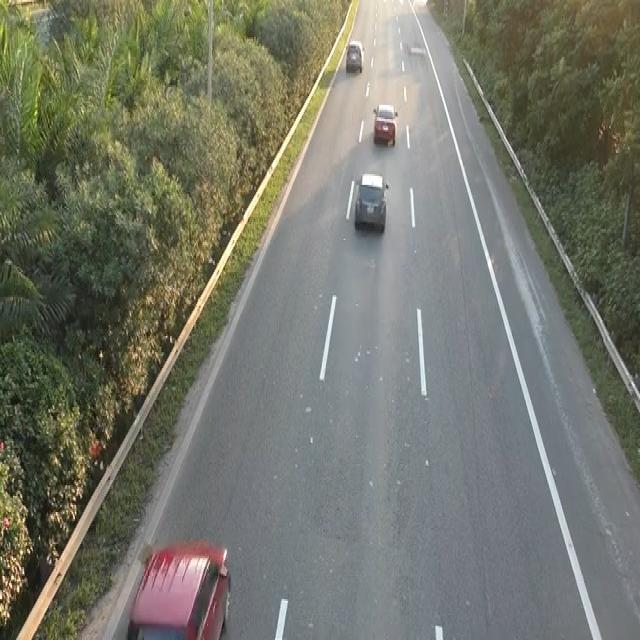bus: (125, 535, 232, 637), (372, 100, 398, 146), (344, 37, 364, 73)
lorry: (351, 169, 391, 238)
